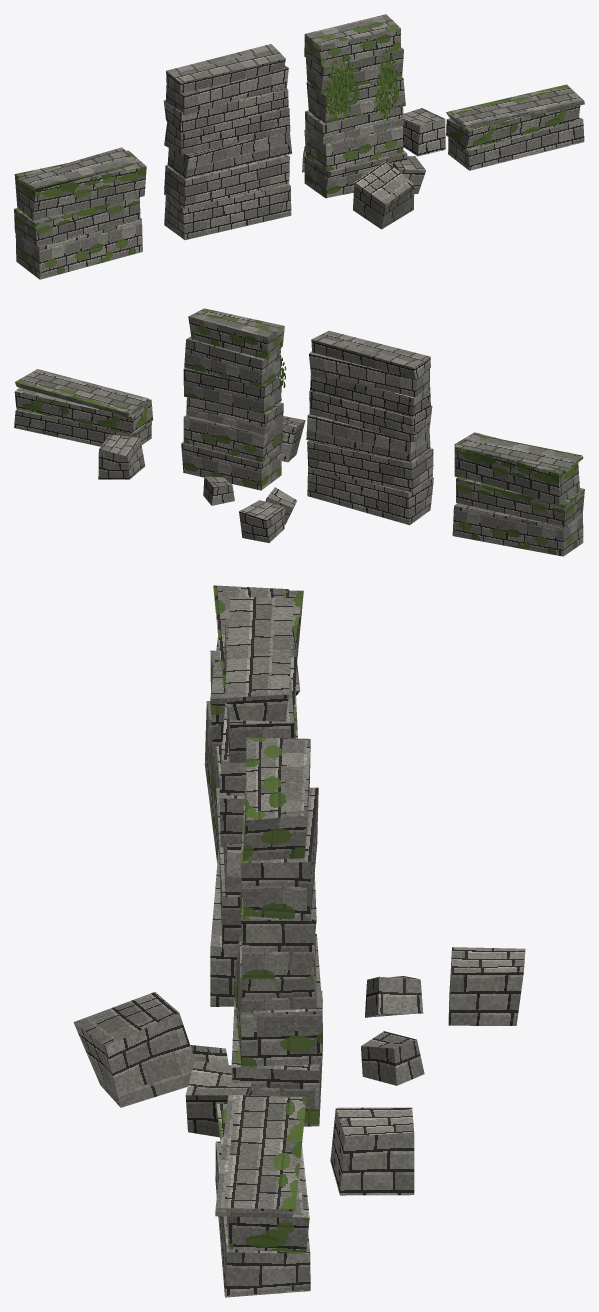
Rendered from prop_ruins_c.glb.
The picture shows the model from 3 angles, top to bottom: view 1: azimuth 30°, elevation 25°; view 2: azimuth 150°, elevation 25°; view 3: azimuth 270°, elevation 25°; orthographic projection. The views are drawn at different scales.
Visible parts, largest first — view 1: prop_ruins_c; view 2: prop_ruins_c; view 3: prop_ruins_c.
Boxes of the visible parts, box(x1,y1,x2,y2) form: prop_ruins_c: box(14, 14, 584, 279); prop_ruins_c: box(14, 308, 584, 556); prop_ruins_c: box(73, 585, 525, 1297).
Size of the model in its own units: 16.46 by 4.72 by 5.87.
Materials: 3 (3 with a texture image).
